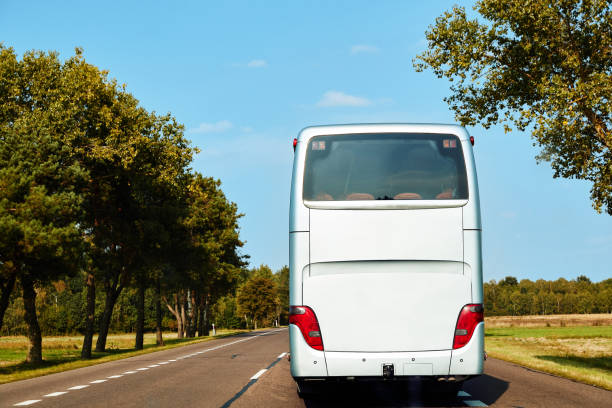bus: (286, 123, 490, 389)
